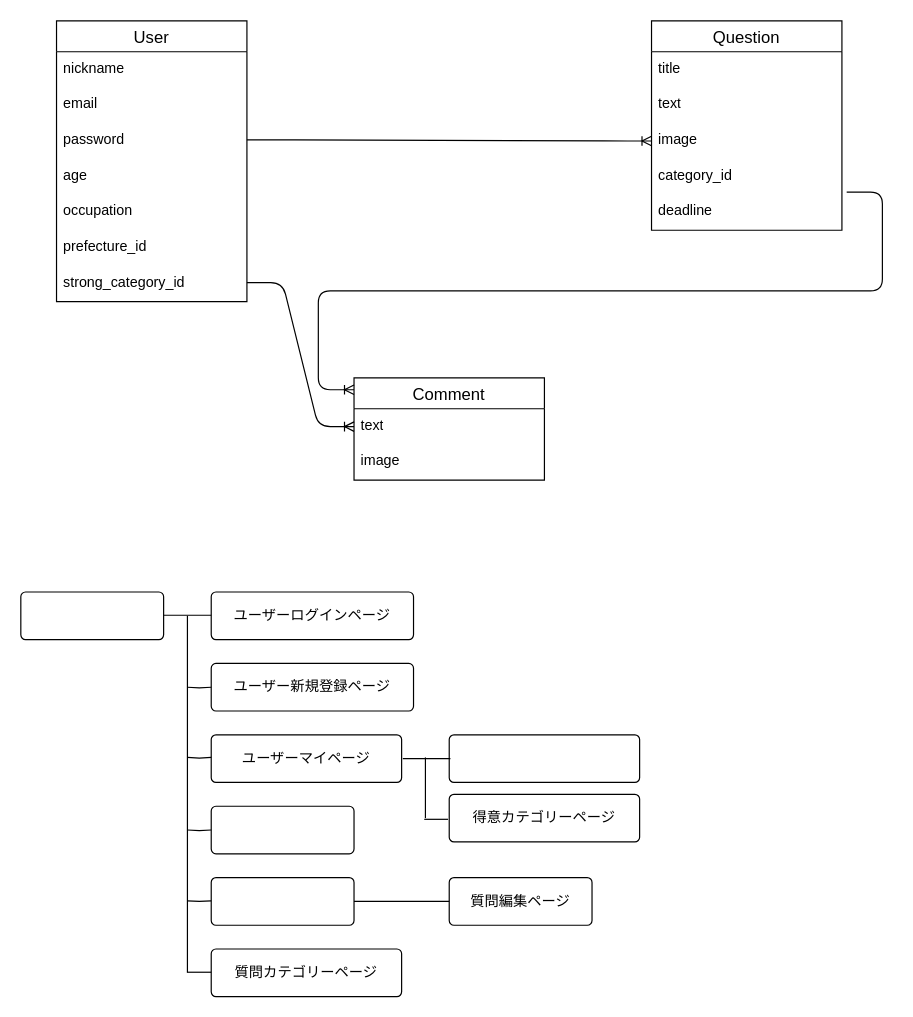
Image size: 913x1017. Some labels were removed from this diagram. The centre of each missing label's shape, as x and y in pixels:
ユーザー編集ページ: the point at 544,758
質問一覧ページ （トップページ）: the point at 92,615
質問投稿ページ: the point at 282,829
質問詳細ページ: the point at 282,900
